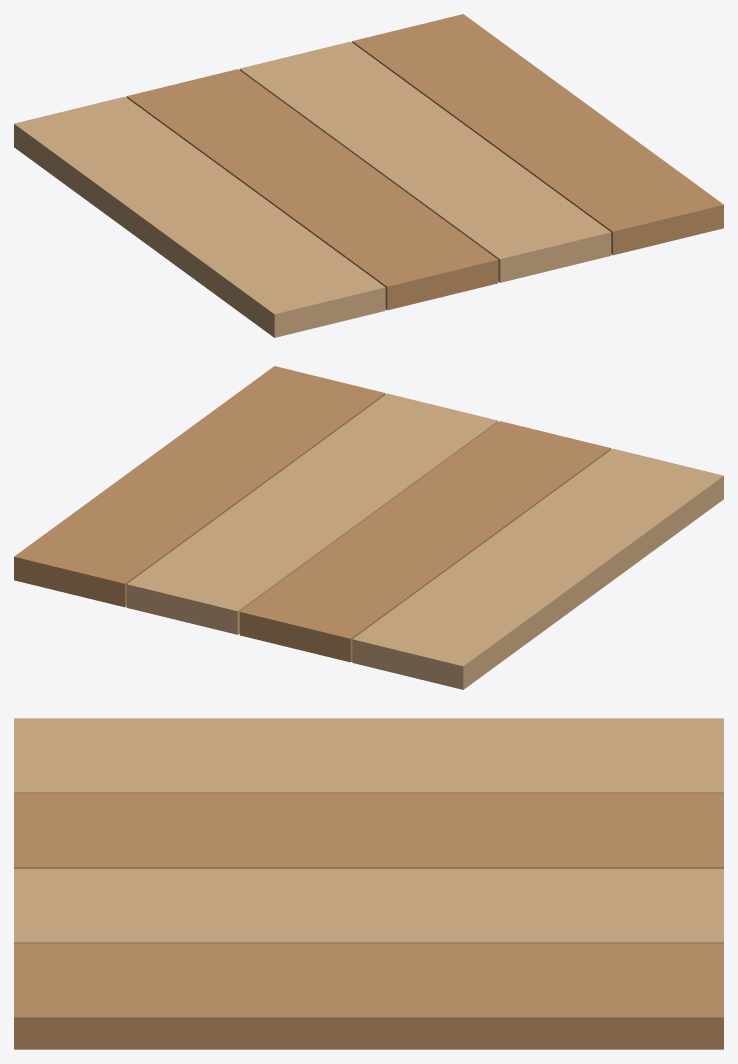
Rendered from floor_tile.glb.
3 views of the same model, one above another, from view 1: azimuth 30°, elevation 25°; view 2: azimuth 150°, elevation 25°; view 3: azimuth 270°, elevation 25° (orthographic). The views are drawn at different scales.
Parts seen in each view (by area): view 1: floor_tile; view 2: floor_tile; view 3: floor_tile.
Part boxes in pixels (x1=…): floor_tile: x1=14, y1=14, x2=723, y2=337; floor_tile: x1=14, y1=366, x2=723, y2=689; floor_tile: x1=14, y1=718, x2=723, y2=1049.
Size of the model in its own units: 0.996 by 0.05 by 1.
1 material, 1 textured.
